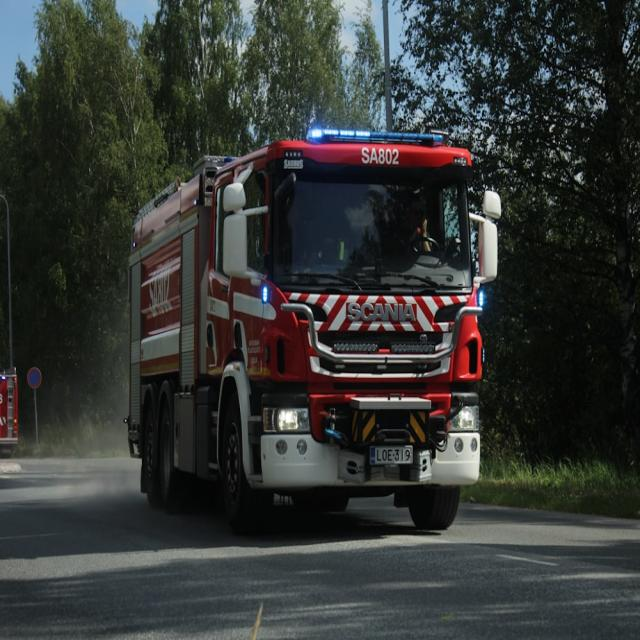emergency: (126, 129, 499, 532)
